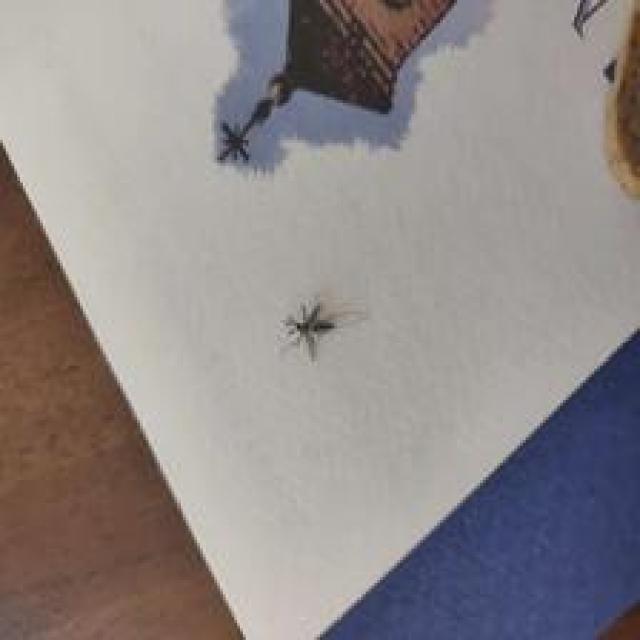Aedes albopictus: (214, 0, 466, 163)
